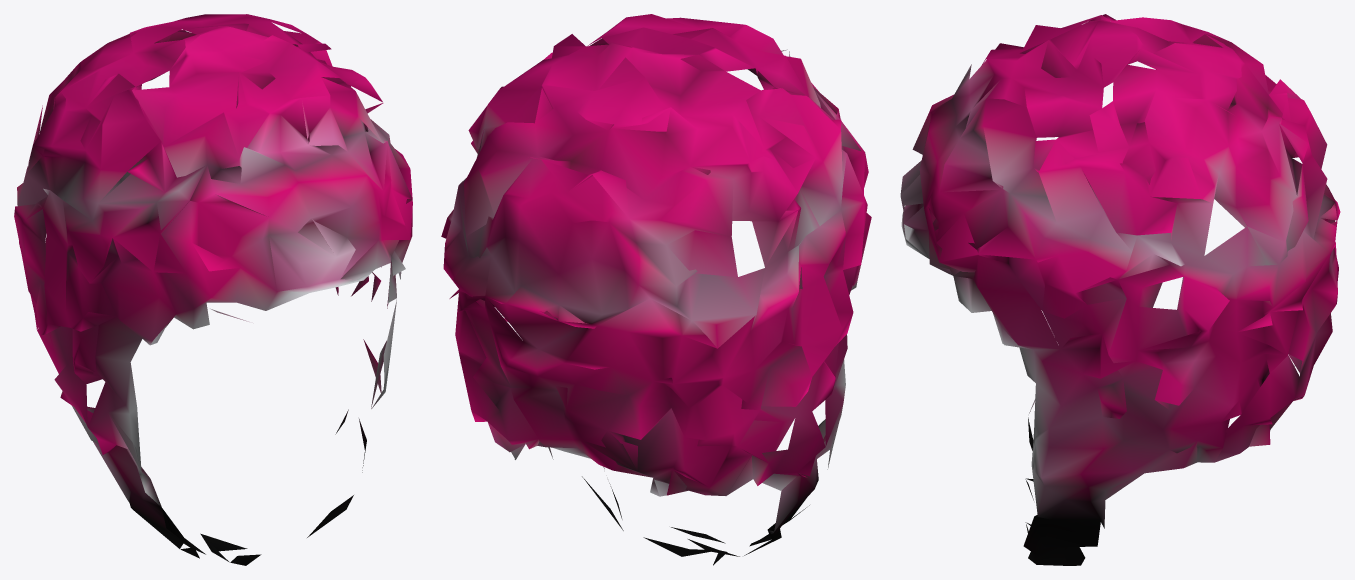
Rendered from casque-rose.glb.
3 views of the same model, side by side, from view 1: azimuth 30°, elevation 25°; view 2: azimuth 150°, elevation 25°; view 3: azimuth 270°, elevation 25° (orthographic). The views are drawn at different scales.
Visible parts, largest first — view 1: casque-rose; view 2: casque-rose; view 3: casque-rose.
Part boxes in pixels (left/top/right/bottom): casque-rose: left=14, top=14, right=412, bottom=565; casque-rose: left=441, top=14, right=871, bottom=565; casque-rose: left=900, top=14, right=1340, bottom=565.
Size of the model in its own units: 0.6922 by 1 by 0.7763.
